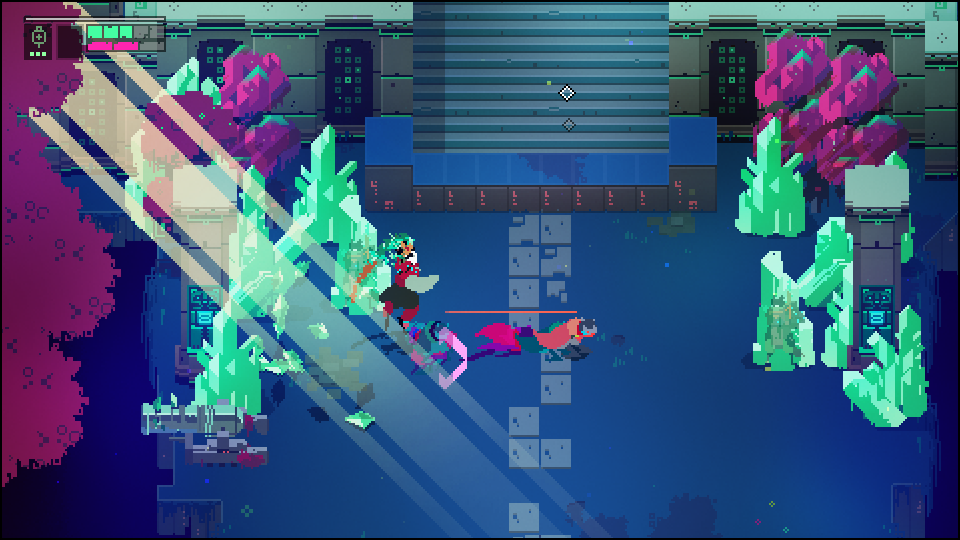hanged_man: (358, 231, 432, 338)
player: (530, 317, 599, 358)
